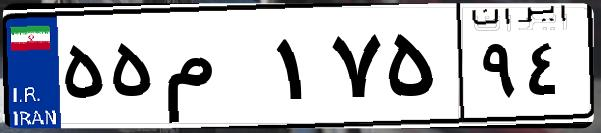1: (270, 28, 330, 110)
4: (525, 38, 570, 115)
5: (385, 28, 445, 110), (57, 26, 110, 100), (110, 28, 158, 98)
7: (330, 28, 385, 110)
9: (475, 38, 525, 113)
م: (158, 20, 270, 120)
